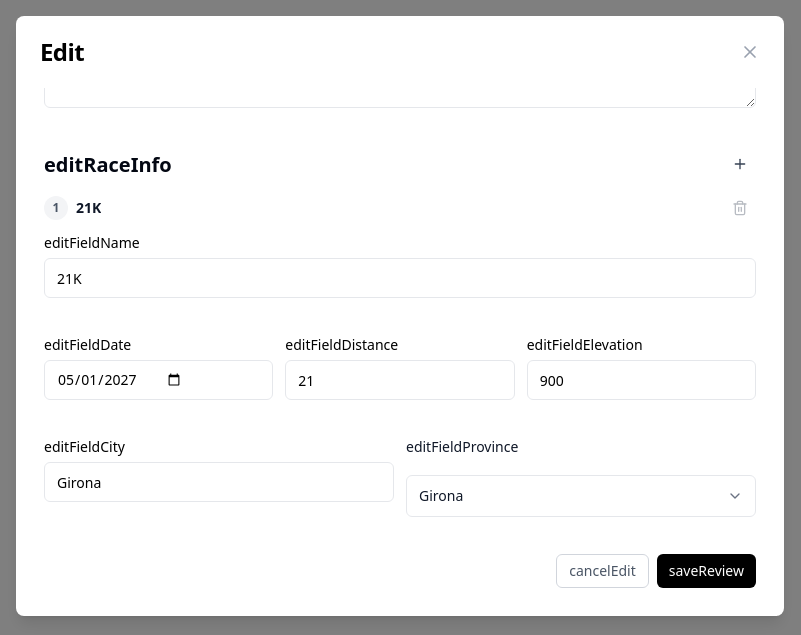
Test case: EventRacesEditModal elevation › rejects a non-numeric elevation instead of silently saving zero
The width and height of the screenshot is (801, 635).
(page scrolled)
Replace the text in the field labelled "editFieldElevation" with "abc" at (641, 380), box top-left (527, 360), bottom-right (756, 400)
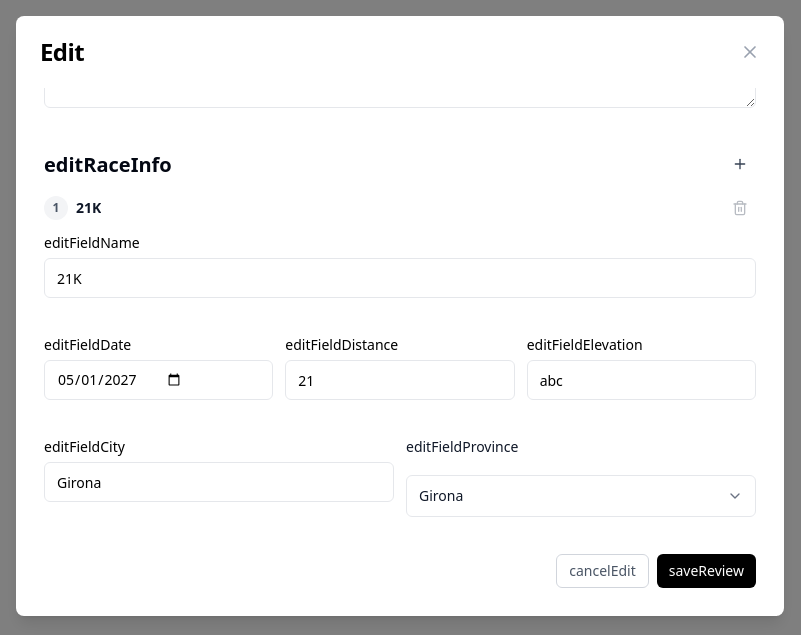
Click the button "saveReview" at (706, 571), box top-left (657, 554), bottom-right (756, 588)
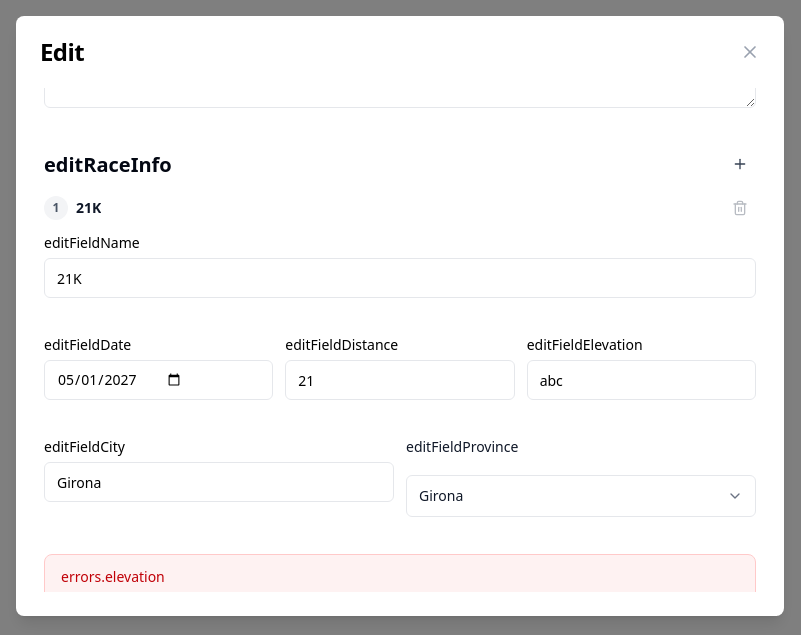
expect the text "errors.elevation" is shown: met, box top-left (44, 554), bottom-right (756, 592)
